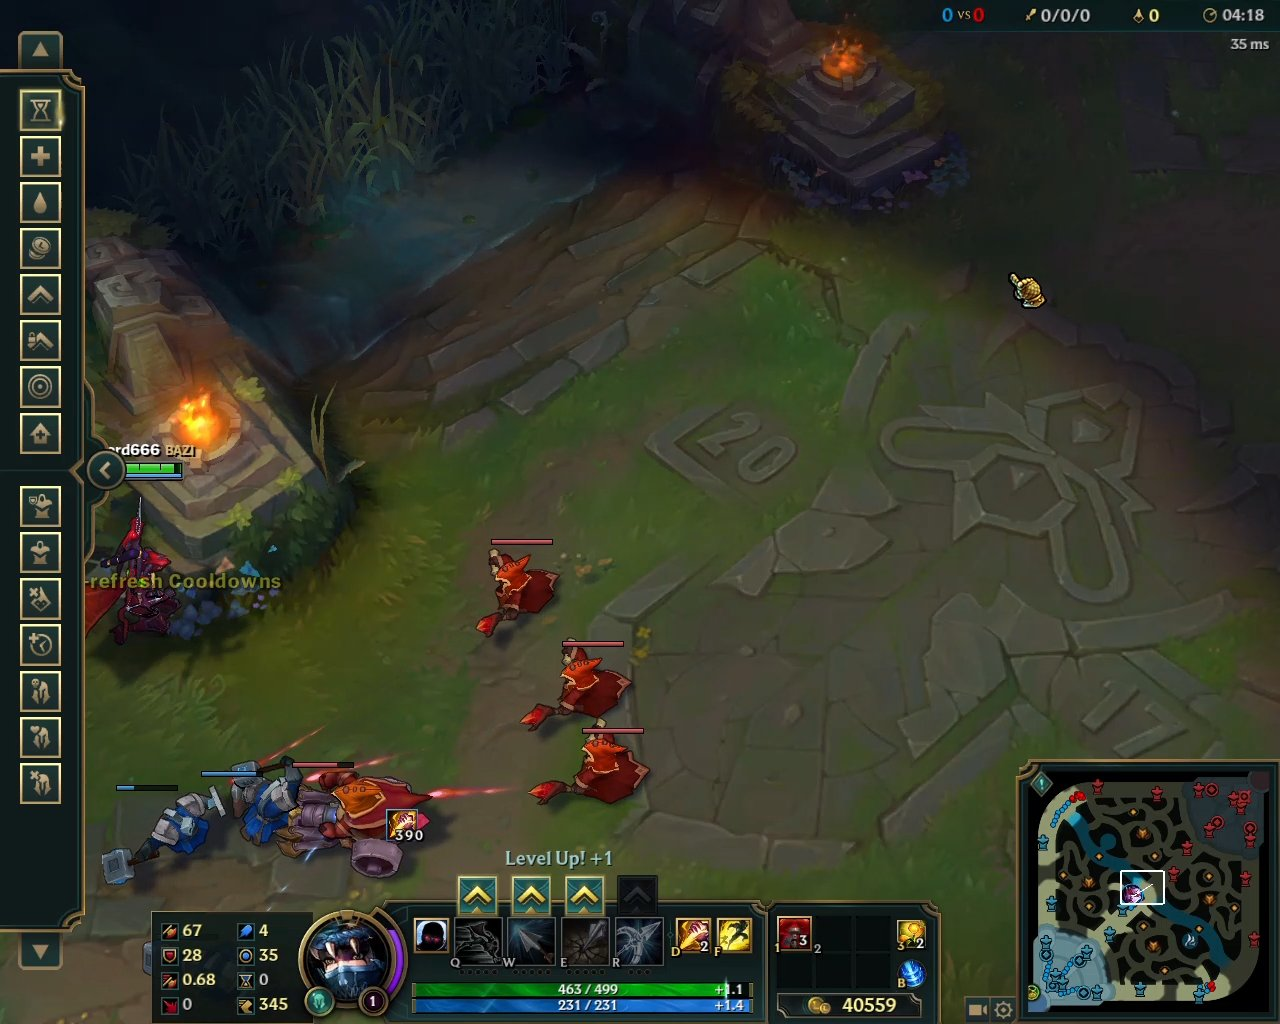EnemyMinion: (272, 760, 436, 879), (515, 636, 638, 741), (526, 726, 648, 815), (471, 536, 560, 645)
